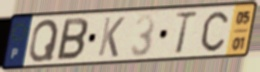3: (129, 12, 158, 58)
B: (54, 16, 90, 62)
C: (200, 10, 230, 54)
K: (96, 16, 127, 59)
Q: (27, 17, 61, 65)
T: (172, 10, 199, 57)
